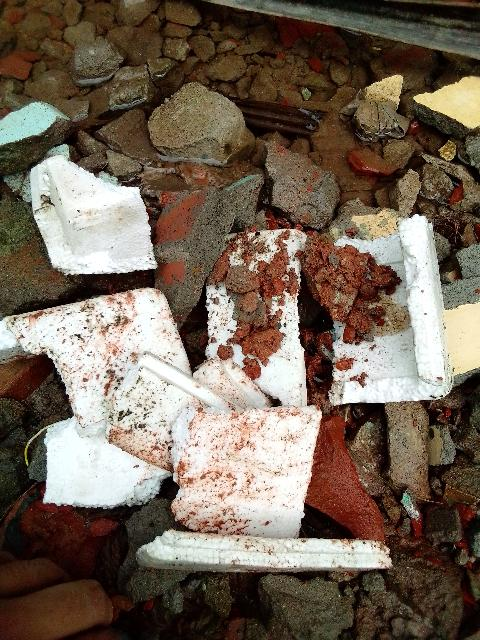cocksheet: (27, 238, 380, 630), (318, 204, 458, 406), (26, 132, 163, 296)
